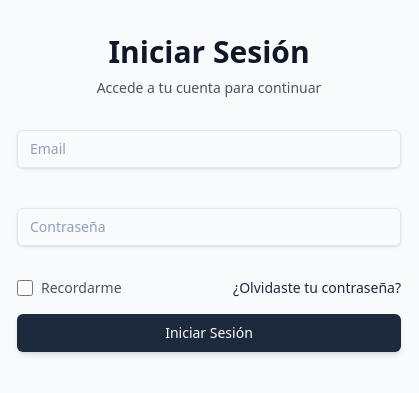
Test: LoginForm Component › Form validation (RED PHASE - Not implemented) › debe limpiar el error de email cuando el usuario empieza a escribir
// Usuario submitea con email vacío (genera error), luego escribe
Click the button "Iniciar Sesión".
click(209, 333)  # box [17, 314, 401, 352]
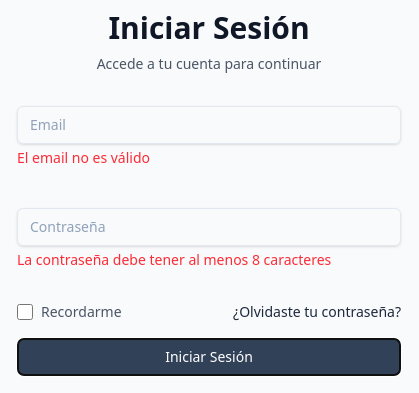
Result: the text "El email no es válido" is shown at [17, 148, 150, 167]
// Usuario empieza a escribir
Type "a" into the field with placeholder "Email".
click(209, 125); type("a")  # box [17, 106, 401, 144]
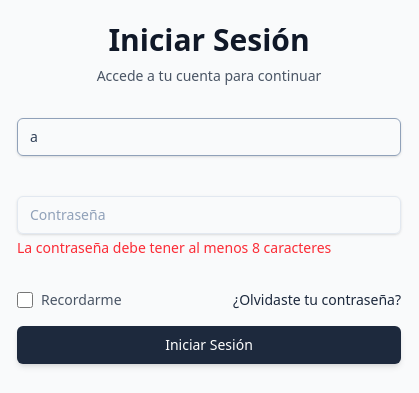
Result: the text "El email no es válido" is gone
